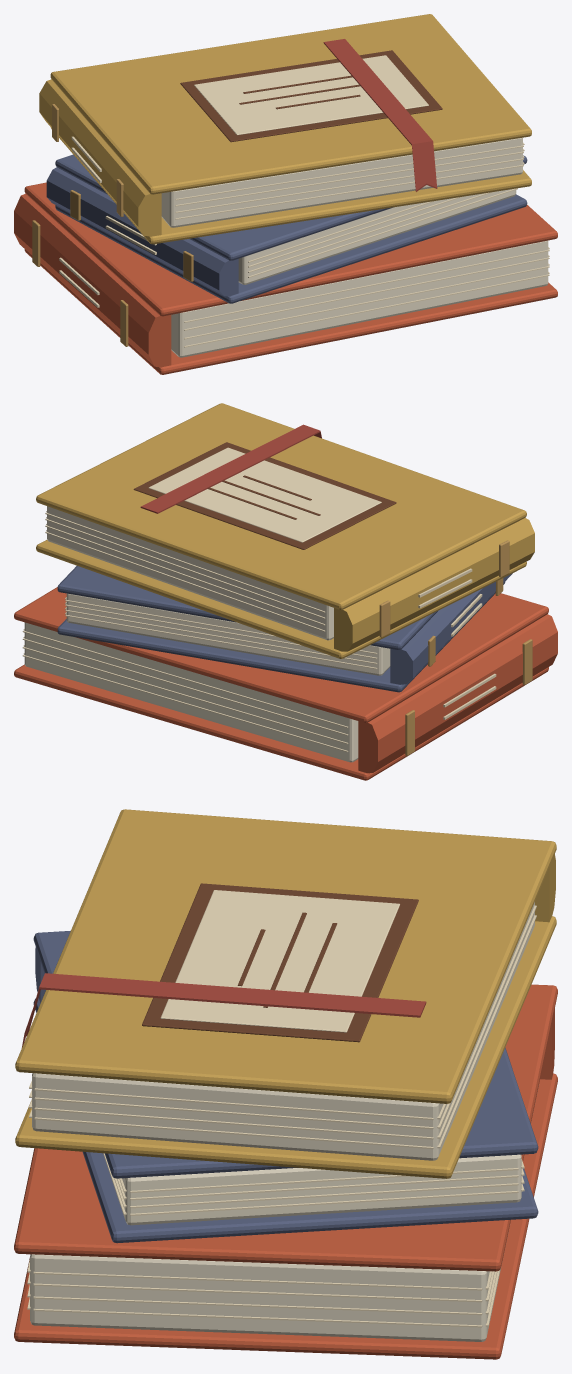
Rendered from 023_book_stack_v01.glb.
3 views of the same model, one above another, from view 1: azimuth 30°, elevation 25°; view 2: azimuth 150°, elevation 25°; view 3: azimuth 270°, elevation 25° (orthographic). The views are drawn at different scales.
Visible parts, largest first — view 1: Top field journal overhanging cloth cover.001, Bottom atlas warm paper block, Bottom atlas overhanging cloth cover.001, Top field journal warm paper block, Top journal cream inset label, Bottom atlas shaped binding spine, Bottom atlas overhanging cloth cover, Middle cloth novel warm paper block, Middle cloth novel shaped binding spine, Top field journal overhanging cloth cover, Middle cloth novel overhanging cloth cover, Top field journal shaped binding spine (+14 smaller); view 2: Top field journal overhanging cloth cover.001, Bottom atlas warm paper block, Bottom atlas overhanging cloth cover.001, Bottom atlas shaped binding spine, Top journal cream inset label, Top field journal warm paper block, Top field journal shaped binding spine, Middle cloth novel warm paper block, Bottom atlas overhanging cloth cover, Top field journal overhanging cloth cover, Middle cloth novel overhanging cloth cover, Middle cloth novel overhanging cloth cover.001 (+15 smaller); view 3: Top field journal overhanging cloth cover.001, Bottom atlas warm paper block, Bottom atlas overhanging cloth cover.001, Top field journal warm paper block, Top journal cream inset label, Middle cloth novel warm paper block, Top field journal overhanging cloth cover, Bottom atlas overhanging cloth cover, Middle cloth novel overhanging cloth cover, Middle cloth novel overhanging cloth cover.001, Top journal inset title panel, Draped notched fabric bookmark (+15 smaller).
Part boxes in pixels (left/top/right/bottom): Top field journal overhanging cloth cover.001: left=50, top=14, right=531, bottom=194; Bottom atlas warm paper block: left=171, top=240, right=548, bottom=357; Bottom atlas overhanging cloth cover.001: left=24, top=182, right=557, bottom=316; Top field journal warm paper block: left=161, top=137, right=522, bottom=227; Top journal cream inset label: left=194, top=55, right=428, bottom=135; Bottom atlas shaped binding spine: left=14, top=194, right=171, bottom=367; Bottom atlas overhanging cloth cover: left=24, top=249, right=557, bottom=374; Middle cloth novel warm paper block: left=238, top=189, right=516, bottom=284; Middle cloth novel shaped binding spine: left=46, top=167, right=238, bottom=296; Top field journal overhanging cloth cover: left=51, top=128, right=531, bottom=244; Middle cloth novel overhanging cloth cover: left=55, top=194, right=527, bottom=303; Top field journal shaped binding spine: left=39, top=79, right=161, bottom=236; Top field journal overhanging cloth cover.001: left=36, top=403, right=526, bottom=609; Bottom atlas warm paper block: left=24, top=622, right=358, bottom=762; Bottom atlas overhanging cloth cover.001: left=14, top=587, right=548, bottom=722; Bottom atlas shaped binding spine: left=358, top=614, right=557, bottom=773; Top journal cream inset label: left=148, top=447, right=381, bottom=542; Top field journal warm paper block: left=47, top=506, right=333, bottom=640; Top field journal shaped binding spine: left=334, top=518, right=534, bottom=651; Middle cloth novel warm paper block: left=66, top=593, right=390, bottom=675; Bottom atlas overhanging cloth cover: left=14, top=664, right=548, bottom=780; Top field journal overhanging cloth cover: left=36, top=540, right=526, bottom=658; Middle cloth novel overhanging cloth cover: left=57, top=582, right=505, bottom=692; Middle cloth novel overhanging cloth cover.001: left=57, top=566, right=437, bottom=649; Top field journal overhanging cloth cover.001: left=15, top=809, right=556, bottom=1103; Bottom atlas warm paper block: left=30, top=1254, right=501, bottom=1341; Bottom atlas overhanging cloth cover.001: left=14, top=984, right=557, bottom=1271; Top field journal warm paper block: left=32, top=902, right=534, bottom=1160; Top journal cream inset label: left=160, top=890, right=399, bottom=1032; Middle cloth novel warm paper block: left=103, top=1154, right=521, bottom=1225; Top field journal overhanging cloth cover: left=15, top=916, right=556, bottom=1178; Bottom atlas overhanging cloth cover: left=14, top=1073, right=557, bottom=1359; Middle cloth novel overhanging cloth cover: left=33, top=998, right=538, bottom=1243; Middle cloth novel overhanging cloth cover.001: left=33, top=930, right=538, bottom=1178; Top journal inset title panel: left=142, top=883, right=418, bottom=1042; Draped notched fabric bookmark: left=22, top=973, right=426, bottom=1047.
Size of the model in its own units: 0.4432 by 0.184 by 0.3359.
